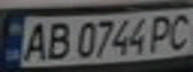0: (72, 18, 96, 58)
4: (127, 15, 154, 55), (112, 16, 136, 56)
7: (93, 17, 115, 57)
A: (18, 19, 54, 63)
B: (39, 19, 72, 61)
C: (163, 10, 193, 51)
P: (145, 11, 181, 53)
